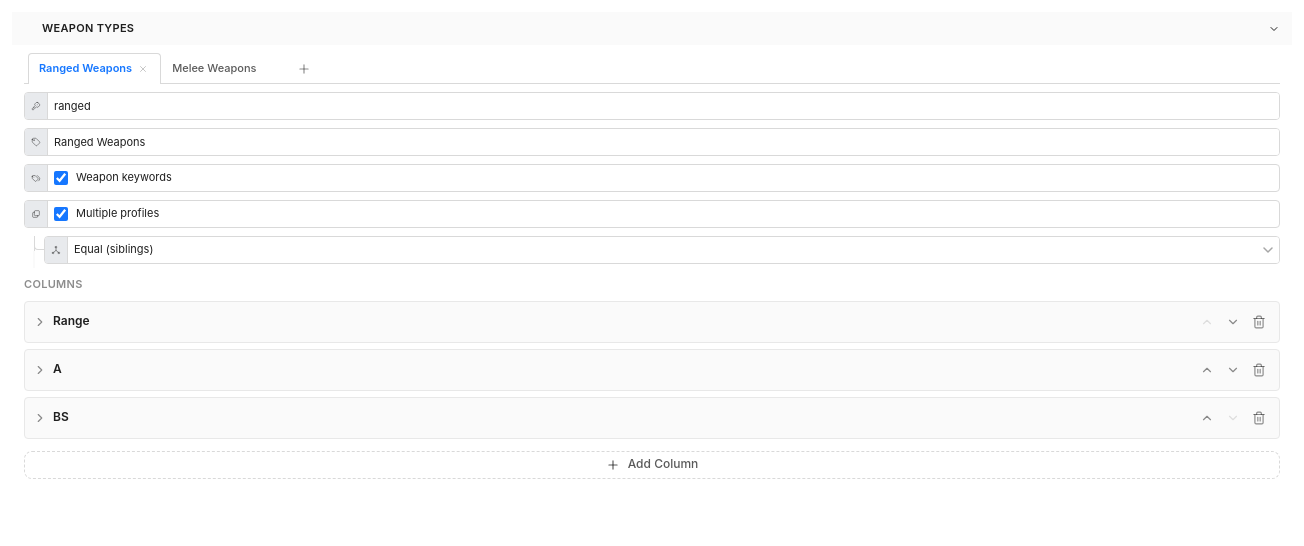
Scenario: WeaponsSchemaEditor › switches tab content on tab click
Click the tab "Melee Weapons" at (223, 68), box [161,53,286,84]
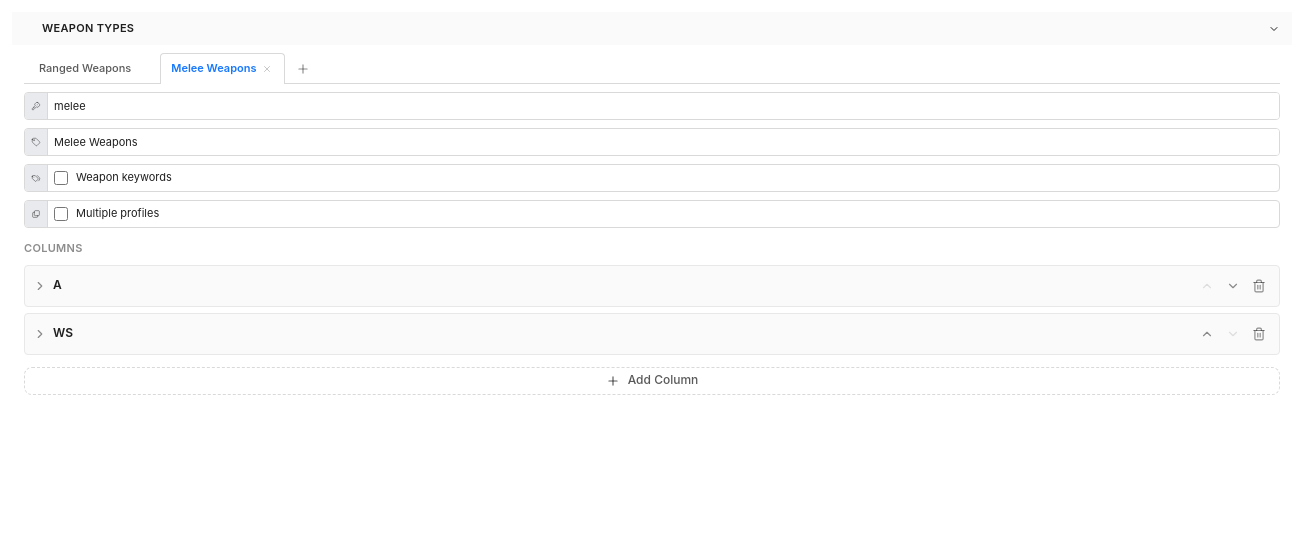
Click the button "WS" at (40, 334), box [33,322,1189,345]
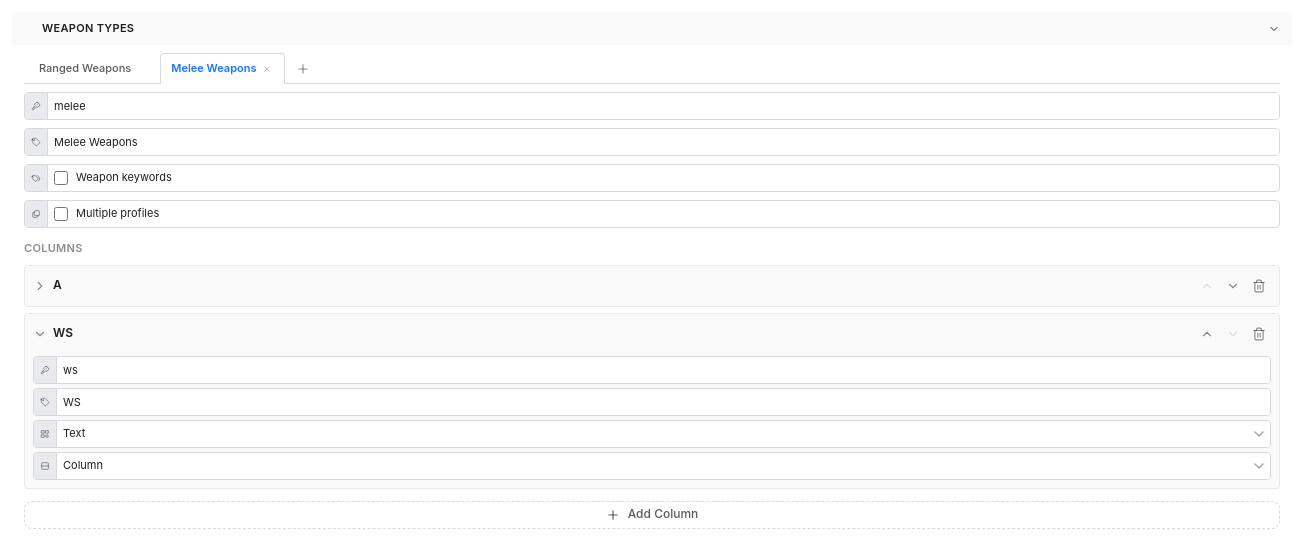
Expected: the 2nd field showing "WS" is shown, [57,389,1270,415]
